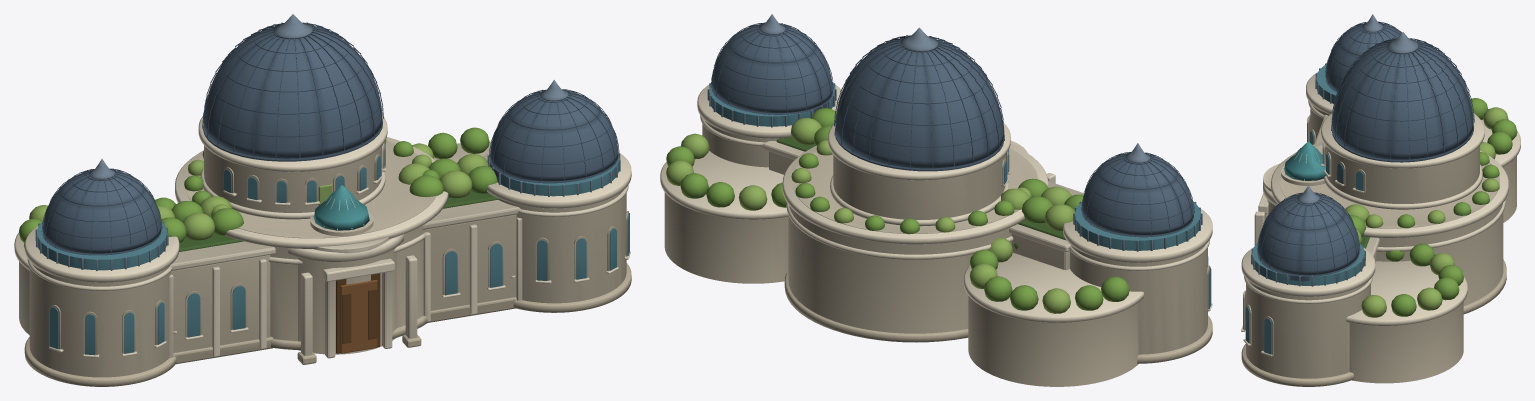
The model's file is observatory.glb.
The picture shows the model from 3 angles, left to right: view 1: azimuth 30°, elevation 25°; view 2: azimuth 150°, elevation 25°; view 3: azimuth 270°, elevation 25°; orthographic projection. The views are drawn at different scales.
Parts seen in each view (by area): view 1: observatory; view 2: observatory; view 3: observatory.
Boxes of the visible parts, <box> form: observatory: <box>14,14,631,386</box>; observatory: <box>660,14,1212,386</box>; observatory: <box>1241,14,1520,386</box>.
Bounding box in the file's own units: 11.39 × 6.3 × 5.82.
